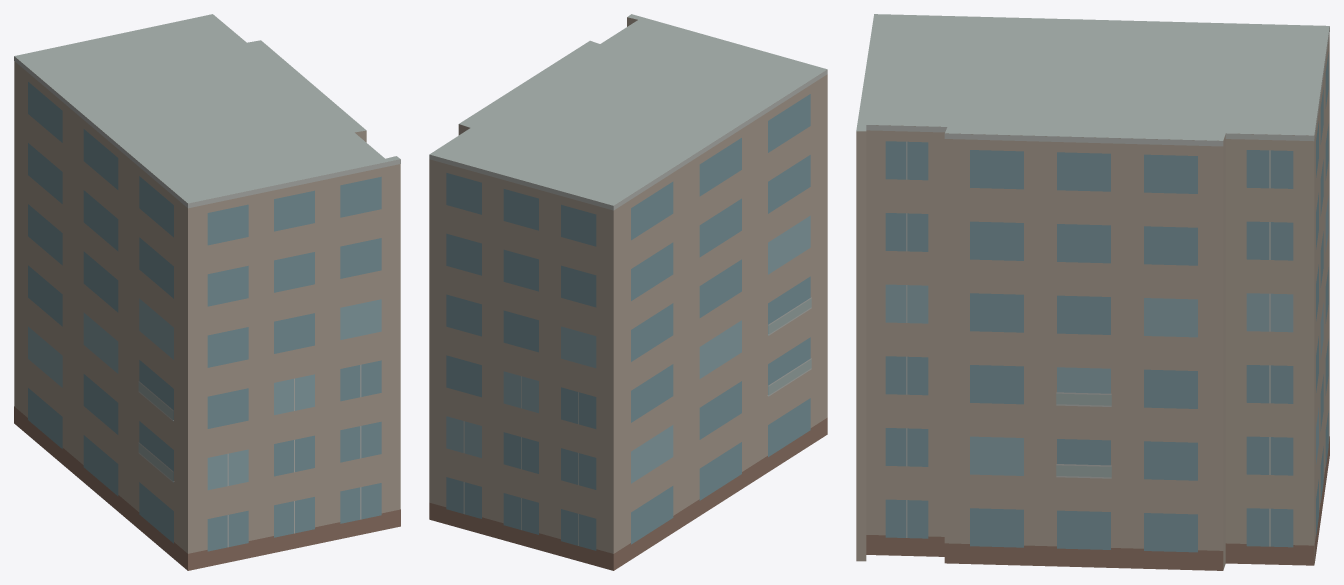
Rendered from survey-upis-32552671.glb.
The picture shows the model from 3 angles, left to right: view 1: azimuth 30°, elevation 25°; view 2: azimuth 150°, elevation 25°; view 3: azimuth 270°, elevation 25°; orthographic projection. The views are drawn at different scales.
Visible parts, largest first — view 1: survey-upis-32552671.tmp; view 2: survey-upis-32552671.tmp; view 3: survey-upis-32552671.tmp.
Boxes of the visible parts, box(x1,y1,x2,y2) form: survey-upis-32552671.tmp: box(14, 14, 400, 570); survey-upis-32552671.tmp: box(429, 14, 827, 570); survey-upis-32552671.tmp: box(856, 14, 1329, 570).
Bounding box in the file's own units: 11.91 × 18.8 × 18.78.
